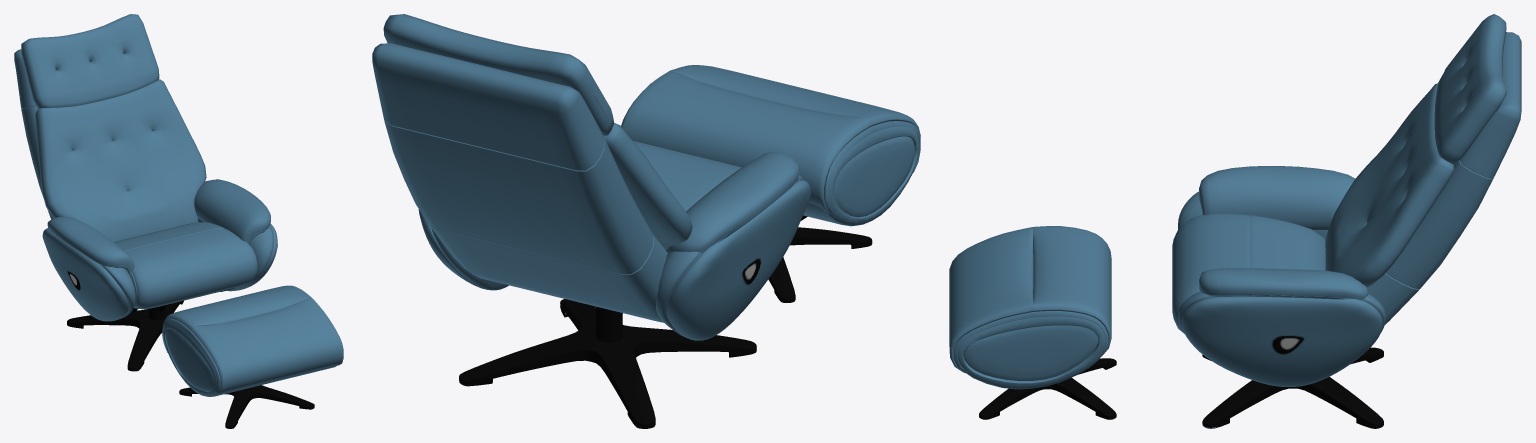
File: chair_30_04.001.fbx
3 renders of one model, left to right at view 1: azimuth 30°, elevation 25°; view 2: azimuth 150°, elevation 25°; view 3: azimuth 270°, elevation 25°, orthographic. The views are drawn at different scales.
Parts seen in each view (by area): view 1: chair_30_04.001; view 2: chair_30_04.001; view 3: chair_30_04.001.
Boxes of the visible parts, <box> form: chair_30_04.001: <box>14,14,343,428</box>; chair_30_04.001: <box>372,14,920,428</box>; chair_30_04.001: <box>949,14,1521,428</box>.
Size of the model in its own units: 84.7 by 112 by 169.
1 material, 1 textured.
